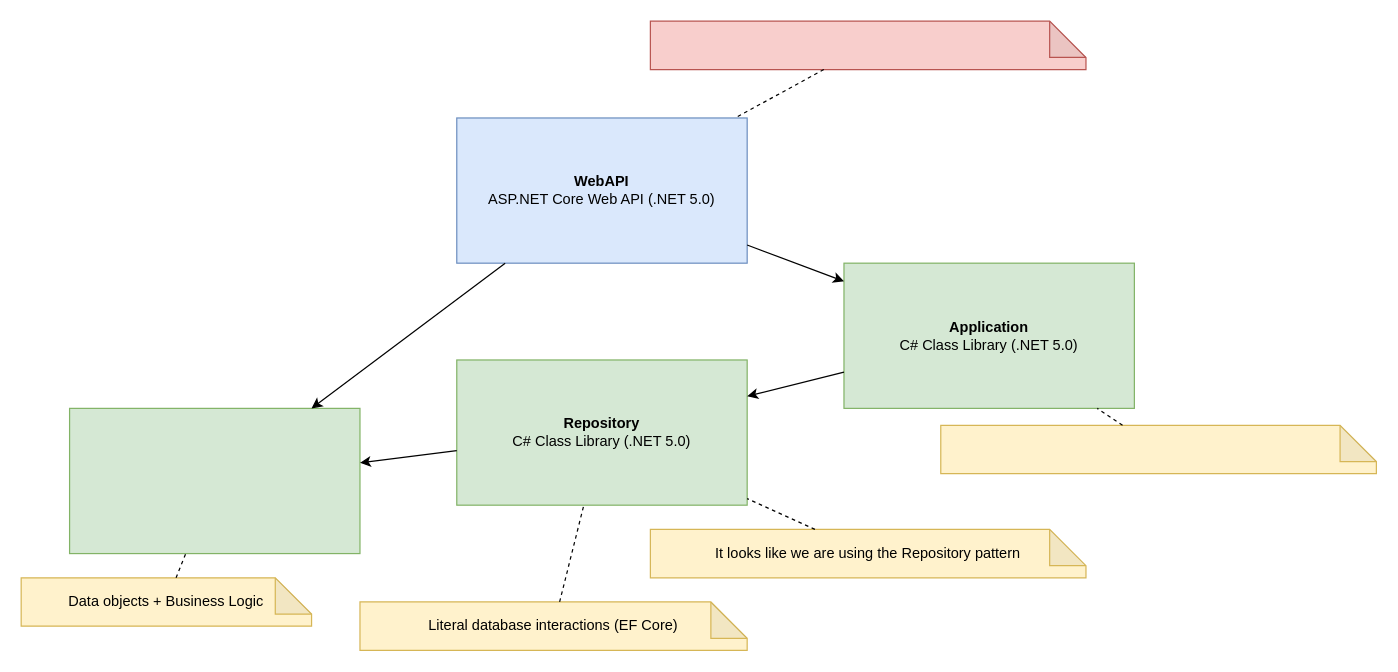
Image size: 1398x672. Some labels were removed from this diagram. Each missing label, with the centre of its shape:
Domain C# Class Library (.NET 5.0): point 214,480
Handles requests in terms of commands: point 1158,449
Has hardcoded secrets?: point 867,45
